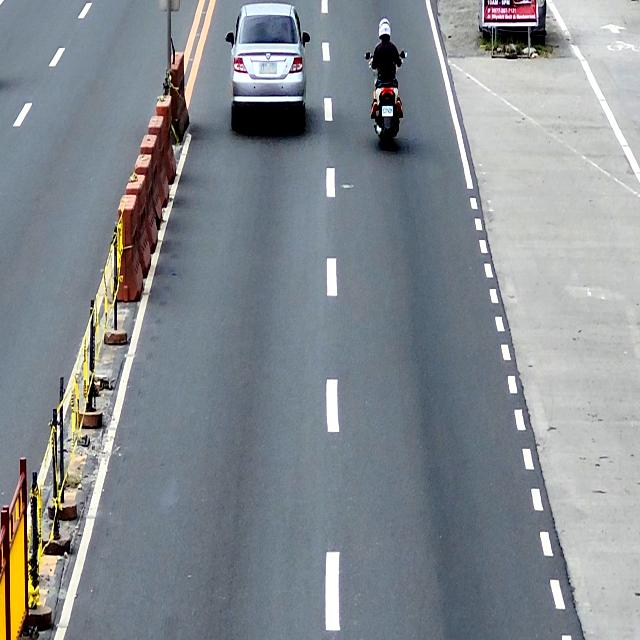Car: (227, 5, 310, 132)
License-Plate: (258, 62, 278, 74), (382, 106, 393, 116)
Motorcycle: (364, 50, 407, 150)
